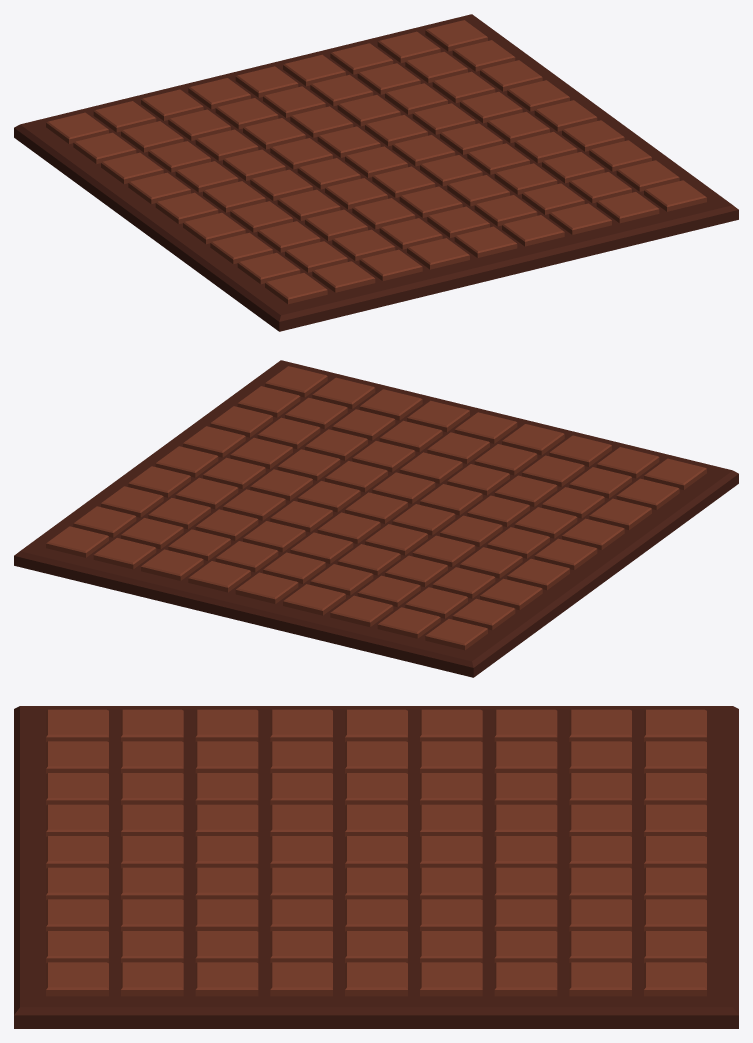
The model's file is ClassicBoard9x9.fbx.
3 views of the same model, one above another, from view 1: azimuth 30°, elevation 25°; view 2: azimuth 150°, elevation 25°; view 3: azimuth 270°, elevation 25° (orthographic). The views are drawn at different scales.
Parts seen in each view (by area): view 1: TABLERO_CLASICO_9x9, Casilla_c1, Casilla_h1, Casilla_b1, Casilla_e1, Casilla_i1, Casilla_f1, Casilla_d1, Casilla_a1, Casilla_g1, Casilla_a2, Casilla_a5 (+70 smaller); view 2: TABLERO_CLASICO_9x9, Casilla_c9, Casilla_h9, Casilla_b9, Casilla_e9, Casilla_i9, Casilla_f9, Casilla_d9, Casilla_a9, Casilla_g9, Casilla_a8, Casilla_a5 (+70 smaller); view 3: TABLERO_CLASICO_9x9, Casilla_i3, Casilla_i7, Casilla_i1, Casilla_i5, Casilla_i9, Casilla_i2, Casilla_i4, Casilla_i6, Casilla_i8, Casilla_a3, Casilla_a7 (+70 smaller).
Boxes of the visible parts, x1,y1,x2,y2 form: TABLERO_CLASICO_9x9: (14, 14, 738, 331); Casilla_c1: (359, 249, 422, 280); Casilla_h1: (596, 192, 659, 223); Casilla_b1: (312, 261, 375, 292); Casilla_e1: (454, 226, 517, 257); Casilla_i1: (644, 180, 706, 211); Casilla_f1: (502, 215, 564, 246); Casilla_d1: (407, 238, 469, 269); Casilla_a1: (265, 273, 327, 304); Casilla_g1: (549, 203, 611, 234); Casilla_a2: (237, 252, 300, 284); Casilla_a5: (155, 192, 218, 224); TABLERO_CLASICO_9x9: (14, 360, 738, 677); Casilla_c9: (330, 595, 393, 626); Casilla_h9: (93, 538, 156, 569); Casilla_b9: (377, 607, 440, 638); Casilla_e9: (235, 572, 298, 603); Casilla_i9: (46, 526, 108, 557); Casilla_f9: (188, 561, 250, 592); Casilla_d9: (283, 584, 345, 615); Casilla_a9: (425, 619, 487, 650); Casilla_g9: (141, 549, 203, 580); Casilla_a8: (452, 598, 515, 630); Casilla_a5: (534, 538, 597, 570); TABLERO_CLASICO_9x9: (14, 706, 738, 1028); Casilla_i3: (195, 962, 258, 996); Casilla_i7: (494, 962, 557, 996); Casilla_i1: (46, 962, 108, 996); Casilla_i5: (345, 962, 407, 996); Casilla_i9: (644, 962, 706, 996); Casilla_i2: (121, 962, 183, 996); Casilla_i4: (270, 962, 332, 996); Casilla_i6: (420, 962, 482, 996); Casilla_i8: (569, 962, 631, 996); Casilla_a3: (195, 709, 258, 741); Casilla_a7: (494, 709, 557, 741).
Bounding box in the file's own units: 970 × 40 × 970.
